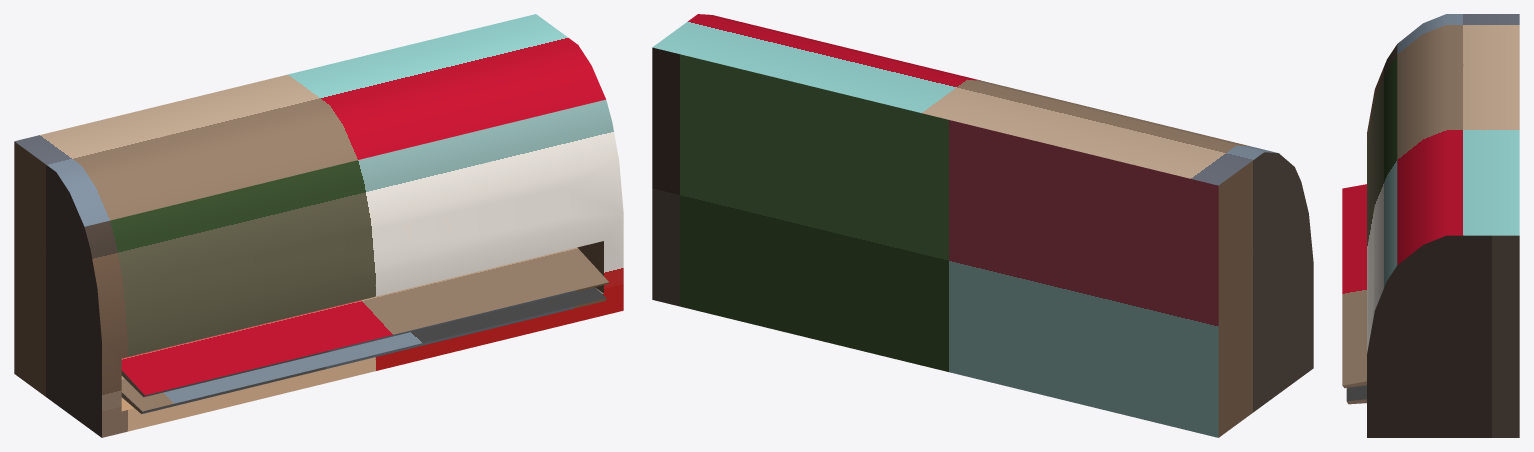
The model's file is Mazgan.fbx.
3 renders of one model, left to right at view 1: azimuth 30°, elevation 25°; view 2: azimuth 150°, elevation 25°; view 3: azimuth 270°, elevation 25°, orthographic. The views are drawn at different scales.
Parts seen in each view (by area): view 1: Mazgan; view 2: Mazgan; view 3: Mazgan.
Part boxes in pixels (bbox=[...]): Mazgan: bbox=[14, 14, 623, 437]; Mazgan: bbox=[652, 14, 1313, 437]; Mazgan: bbox=[1342, 14, 1519, 437].
Size of the model in its own units: 416 by 177 by 141.
